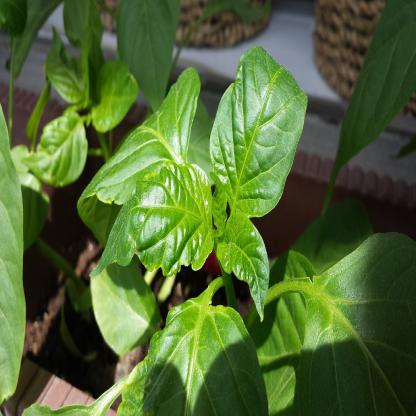bell pepper leaf: (209, 44, 308, 218), (89, 70, 202, 201), (89, 163, 214, 278), (216, 213, 270, 324)
